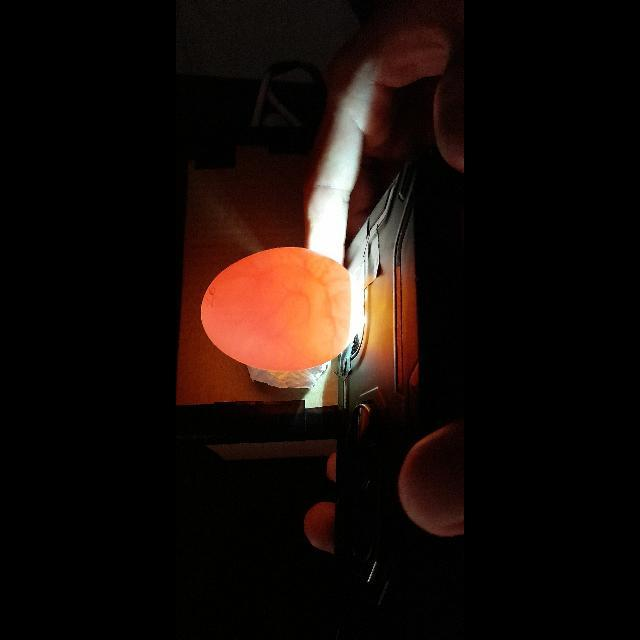Fertile: (202, 238, 358, 376)
